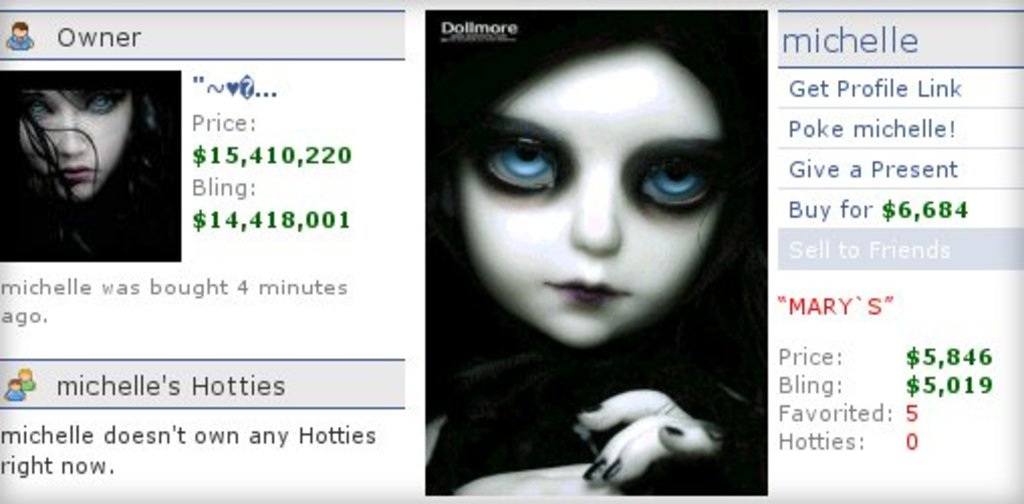face: (14, 78, 137, 188)
